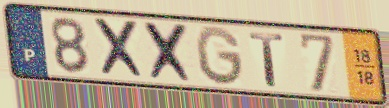7: (296, 31, 337, 96)
8: (49, 15, 92, 76)
G: (193, 24, 246, 88)
T: (246, 30, 287, 89)
X: (90, 16, 150, 82), (141, 19, 198, 86)
